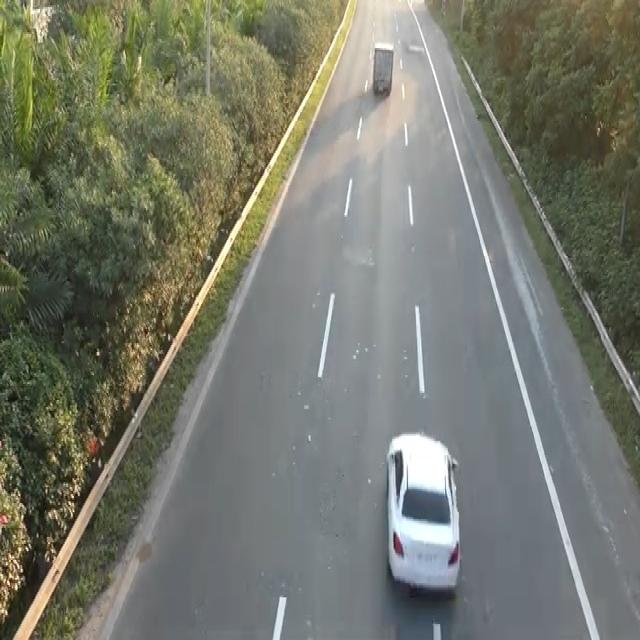bus: (383, 427, 463, 597)
minivan: (370, 39, 395, 98)
